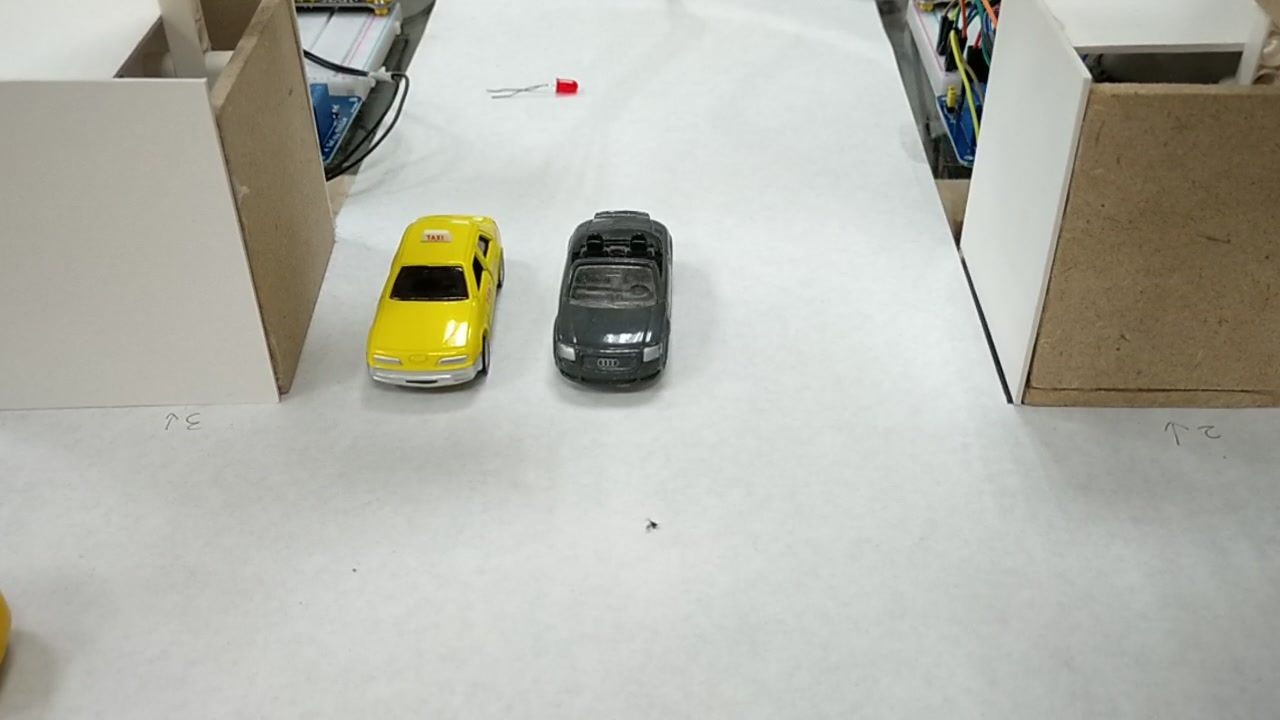car: (362, 220, 499, 388), (553, 207, 668, 375)
